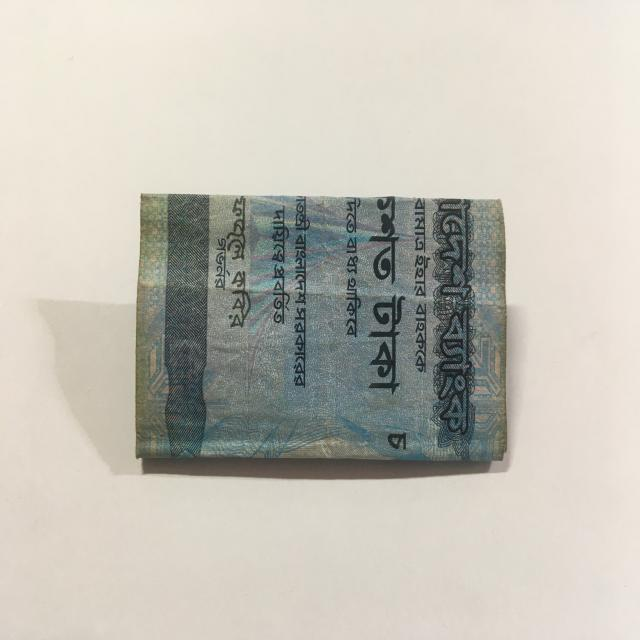Taka: (130, 178, 514, 476)
